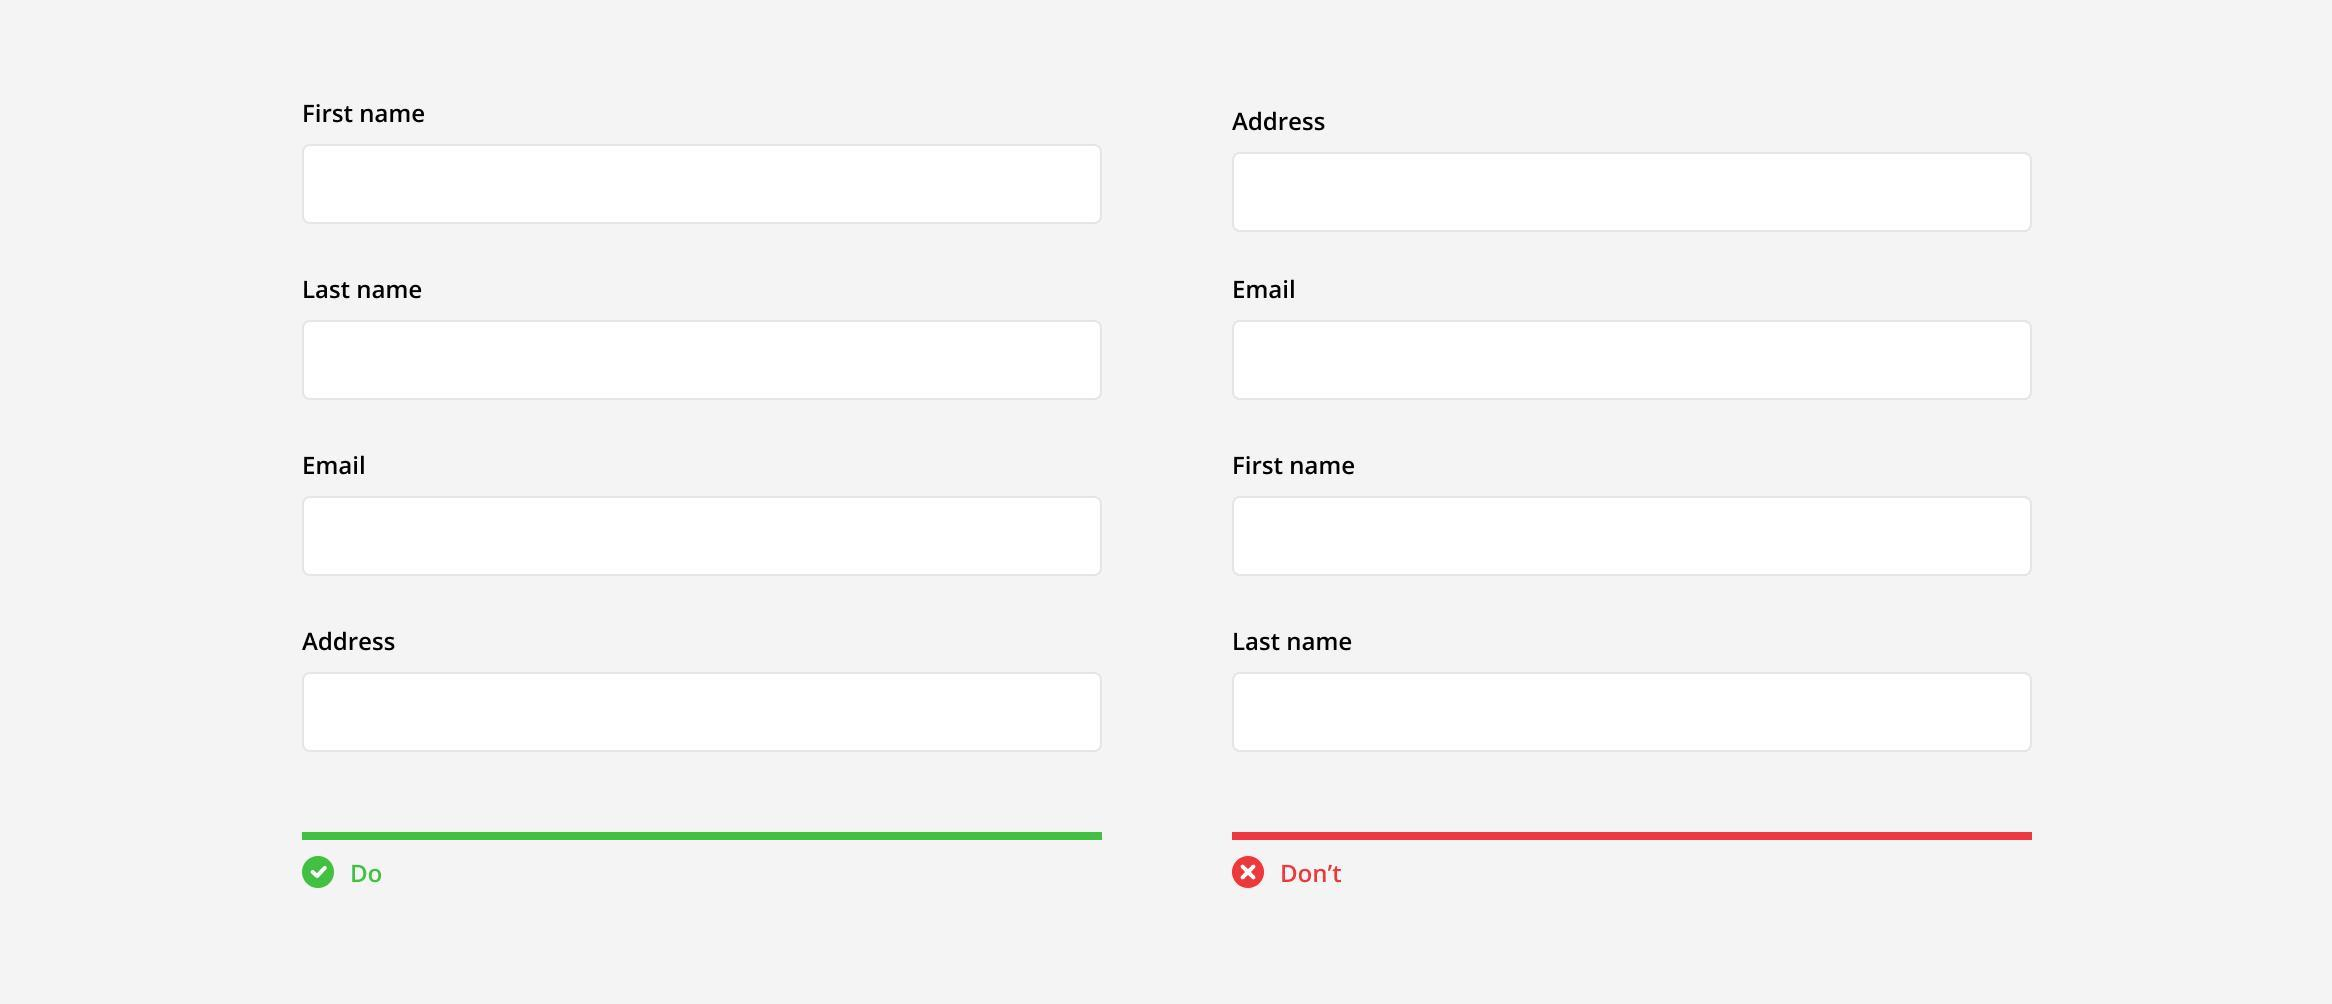input: (297, 492, 1108, 588), (297, 312, 1107, 405), (1228, 671, 2036, 762), (299, 140, 1109, 229), (1228, 492, 2038, 582), (1228, 321, 2035, 408), (303, 672, 1105, 754), (1231, 155, 2032, 235)
label: (299, 97, 431, 129), (1228, 628, 1355, 657), (1236, 451, 1355, 482), (300, 275, 427, 303), (303, 625, 397, 657), (1228, 112, 1333, 137), (299, 446, 372, 480), (1231, 271, 1297, 305)
